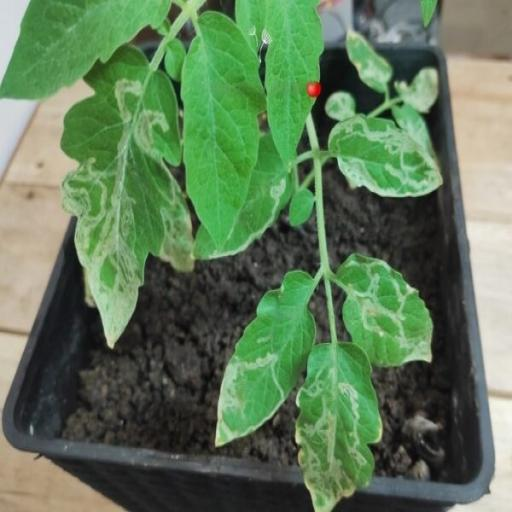Healthy: (182, 7, 267, 248), (0, 0, 173, 102)
Leaf_Miner: (62, 40, 180, 352), (213, 270, 316, 448), (293, 339, 382, 512), (336, 251, 433, 372), (328, 111, 444, 200)
